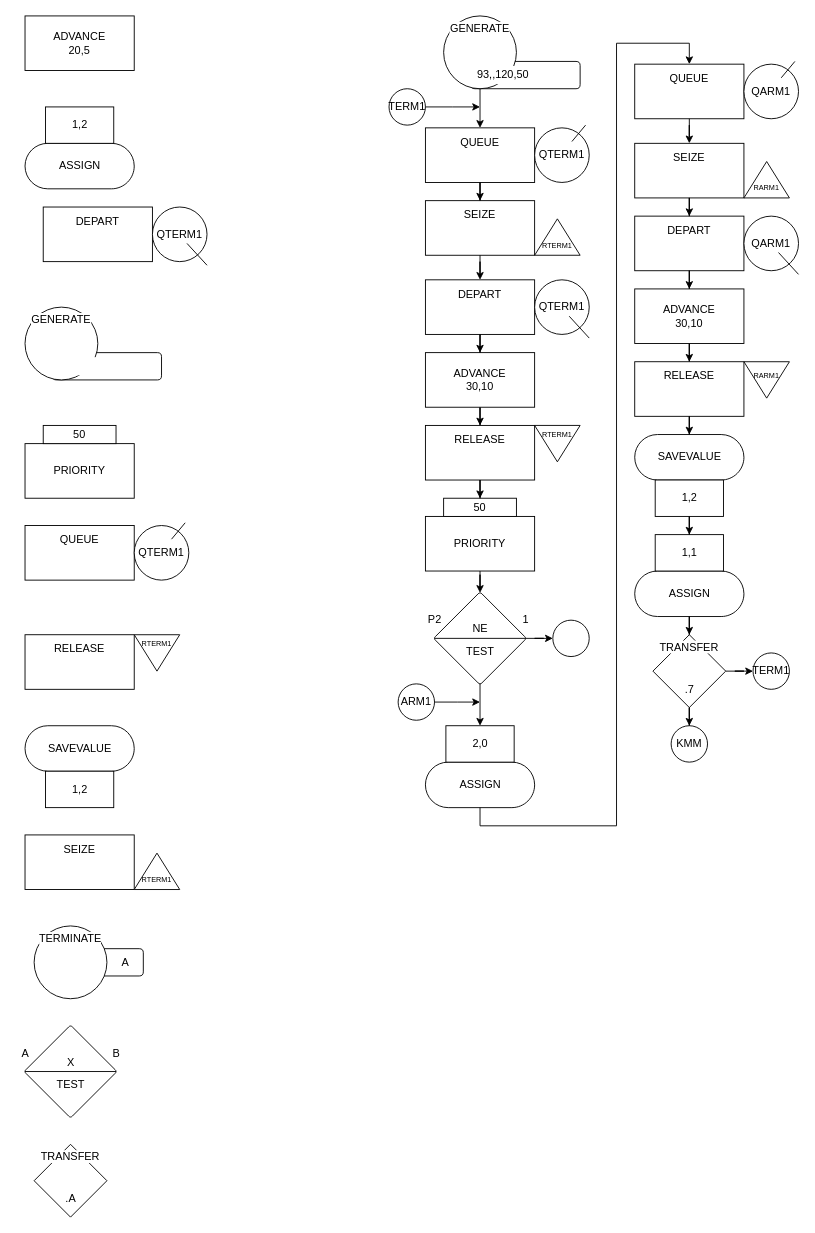
Image size: 815x1233. Some labels were removed from this diagram. Here are the shapes that lost their labels. From the top down, the box of each, then its label:
(70, 357, 97, 375): A,B
(552, 619, 589, 657): TST1
